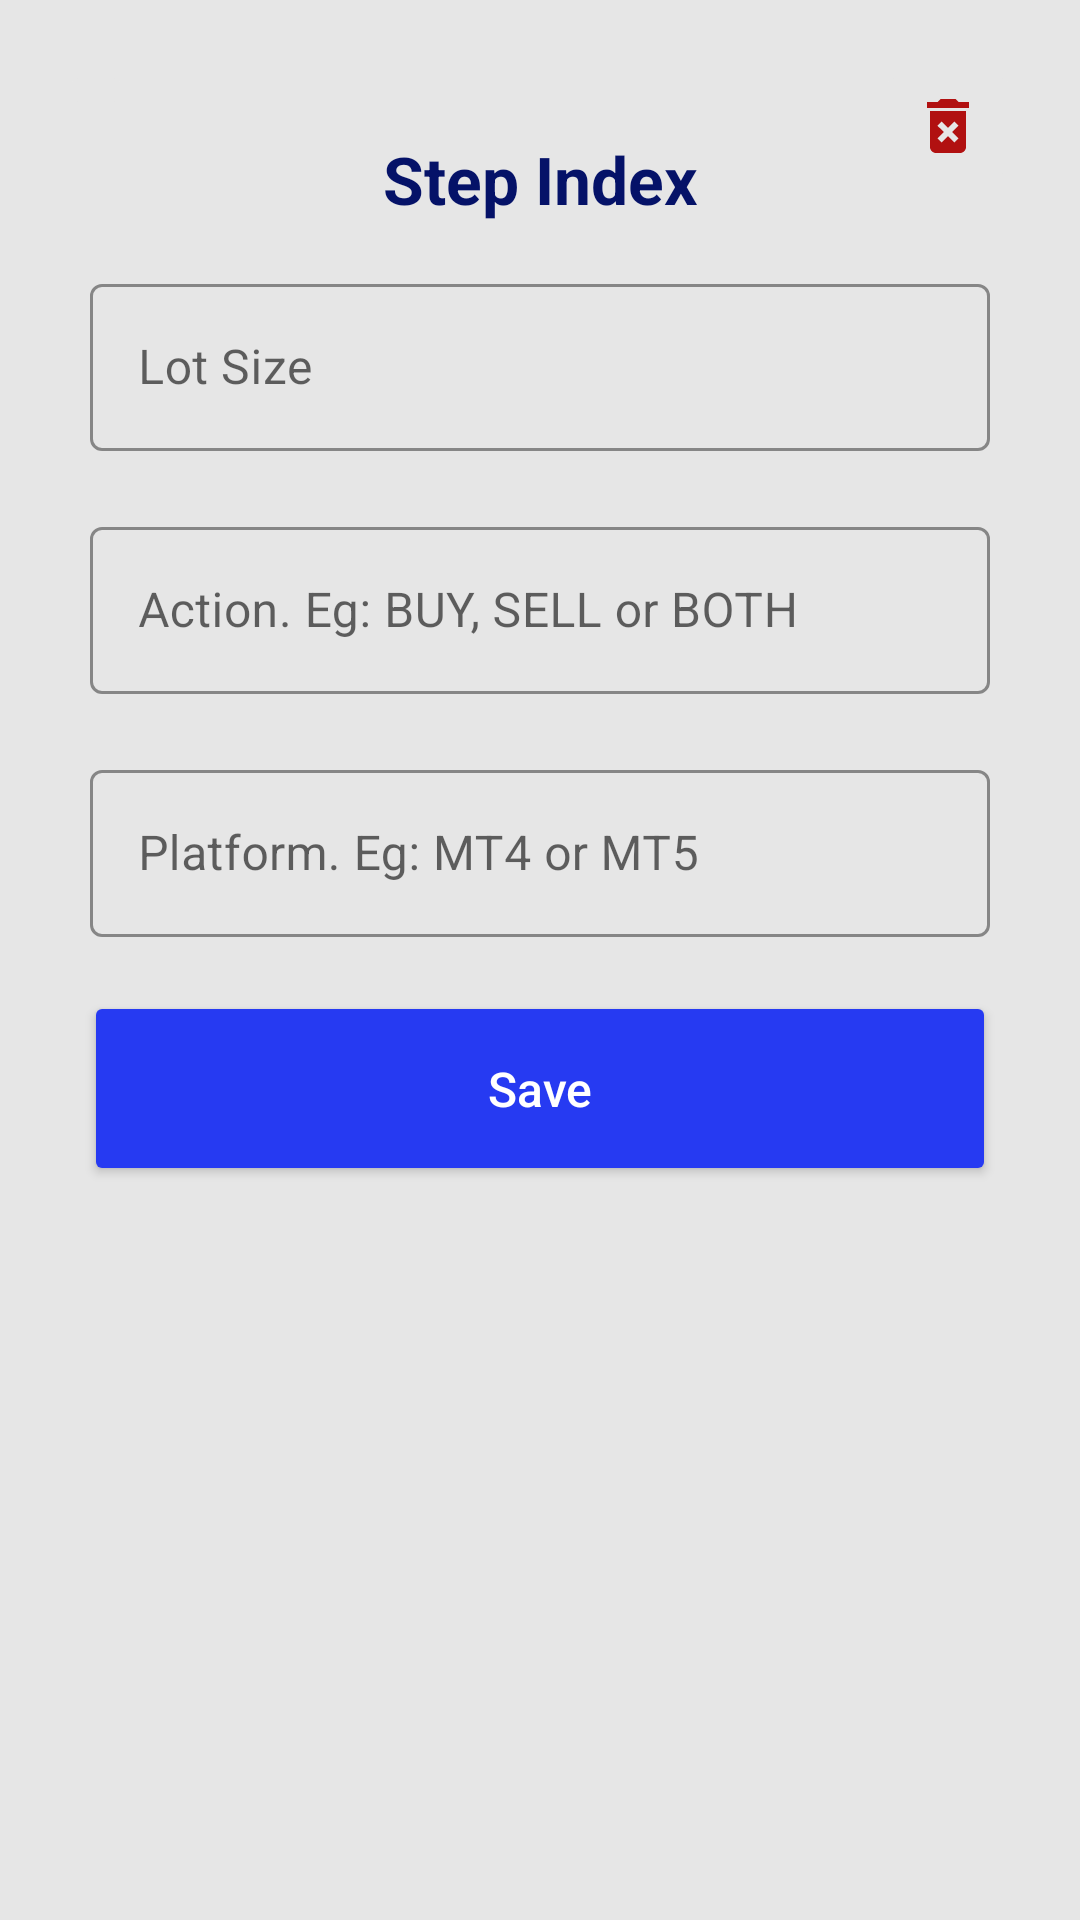

Where to tap for icons on this 1080w x 1920h app screen, as (x,y):
delete forever: (948,126)
